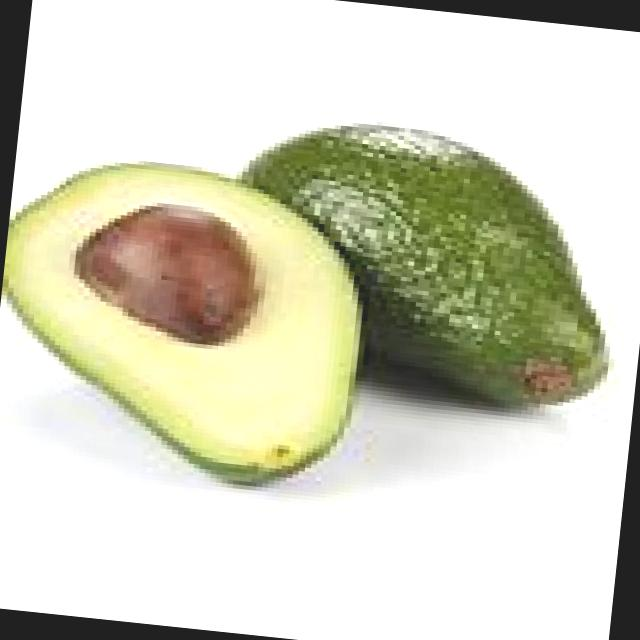avocado: (217, 108, 637, 428), (0, 152, 376, 498)
